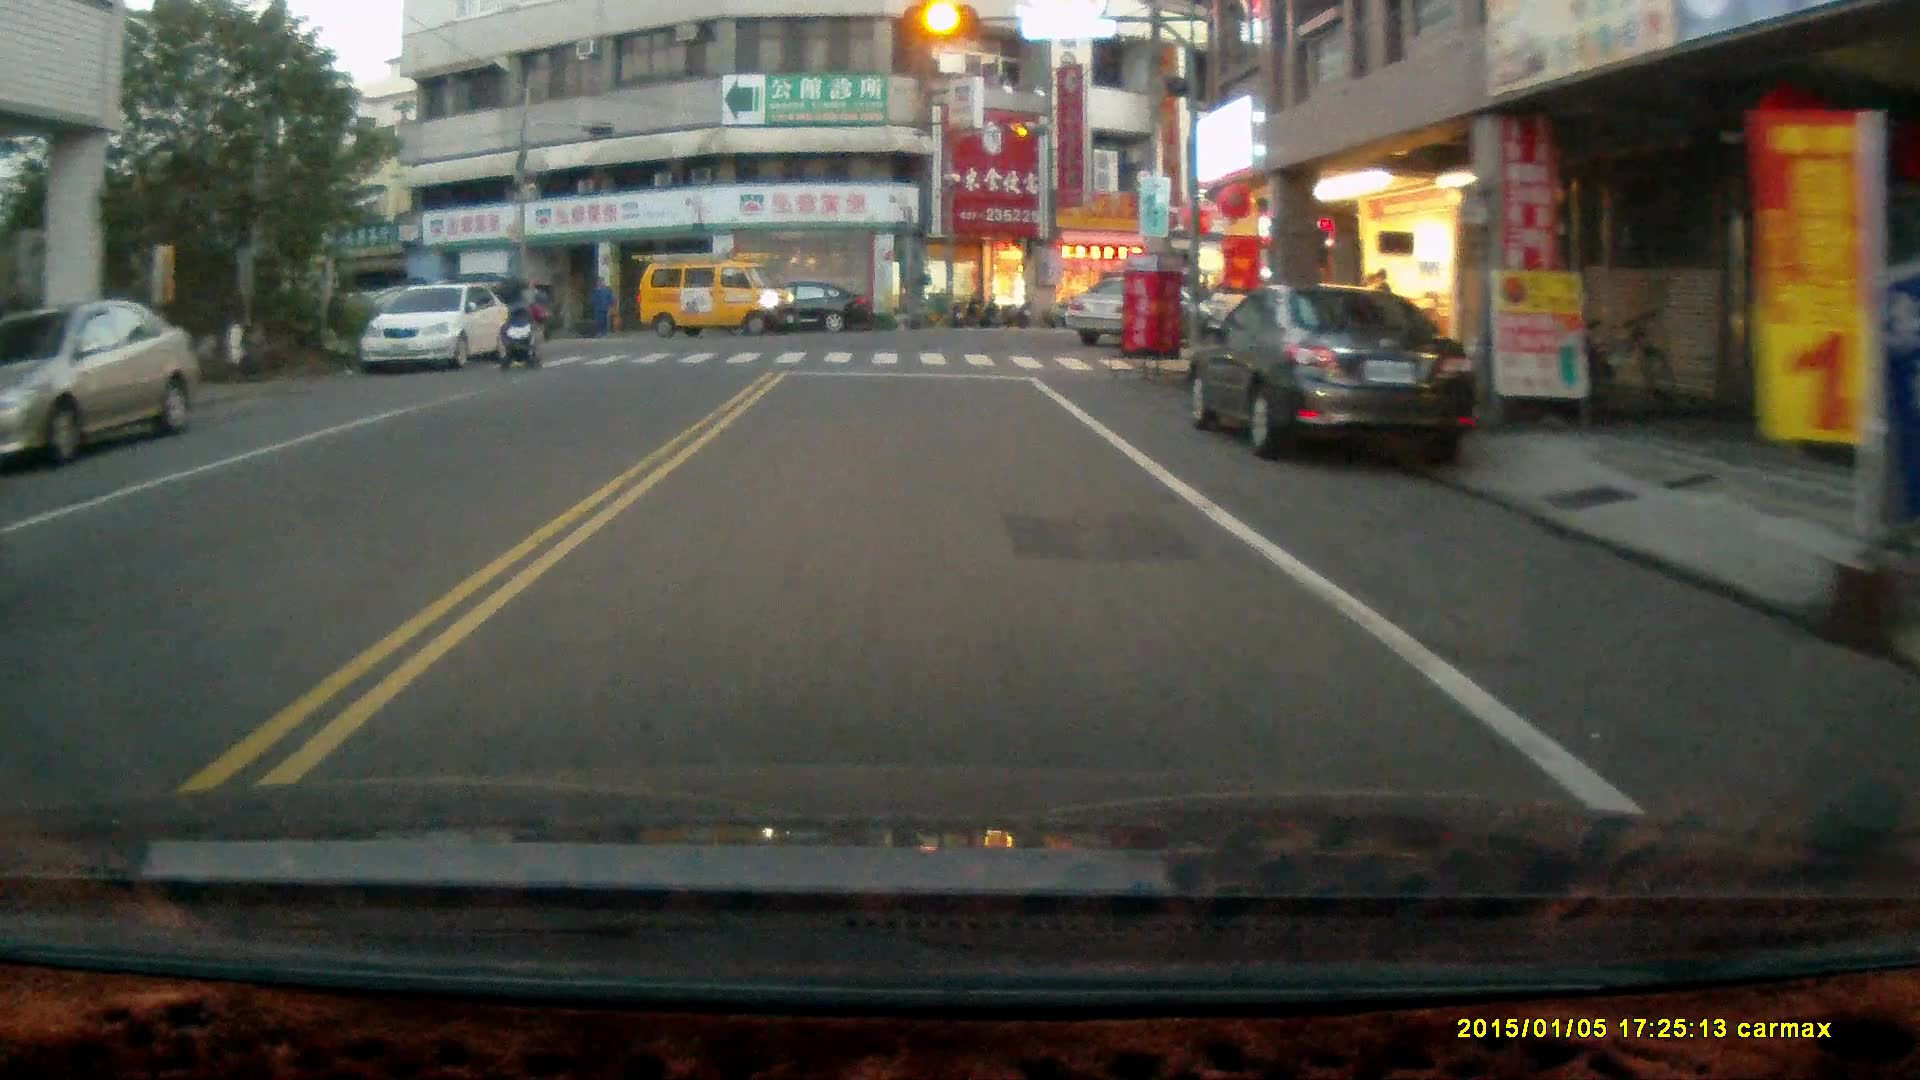pedestrian: (515, 272, 546, 352), (589, 275, 612, 335)
rider: (494, 303, 547, 373)
vehicle: (1186, 284, 1479, 462), (1, 298, 211, 468), (364, 282, 512, 376), (636, 250, 802, 333), (1059, 276, 1200, 350), (736, 281, 867, 336)
